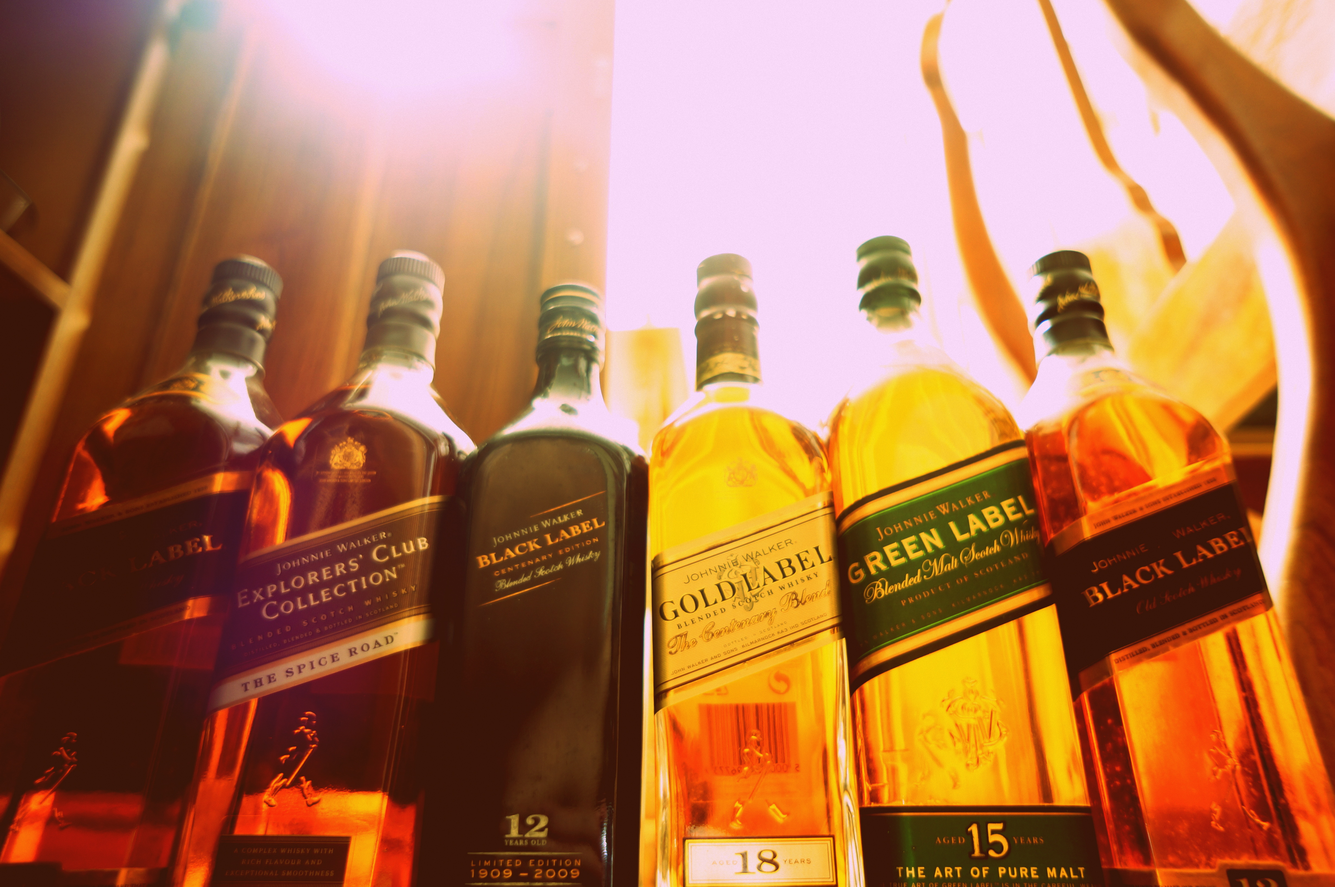johnnieblack: (1015, 251, 1335, 879), (173, 250, 477, 877), (0, 256, 285, 876), (828, 234, 1083, 819), (414, 285, 649, 878), (645, 254, 859, 882)
